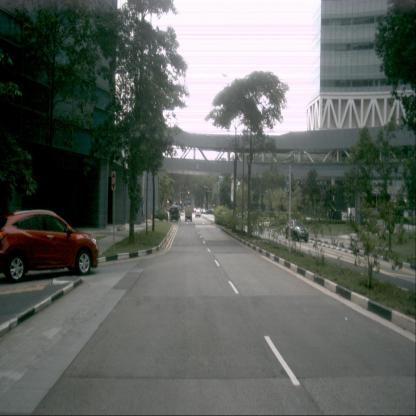vehicle-car: (0, 207, 100, 283), (285, 218, 309, 242), (169, 206, 179, 222), (205, 208, 215, 215), (195, 209, 201, 217)
vehicle-truck: (184, 206, 192, 222)
